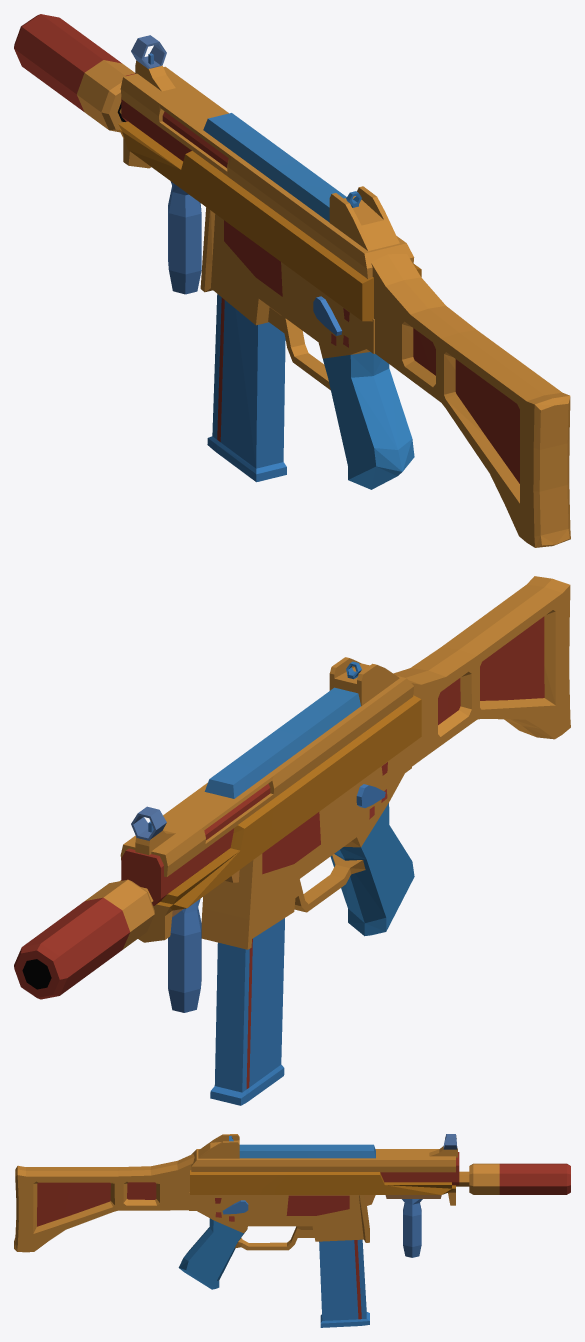
3 renders of one model, top to bottom at view 1: azimuth 30°, elevation 25°; view 2: azimuth 150°, elevation 25°; view 3: azimuth 270°, elevation 25°, orthographic. The views are drawn at different scales.
Visible parts, largest first — view 1: G36_Toy_Main_2, G36_Toy_Magazine_3; view 2: G36_Toy_Main_2, G36_Toy_Magazine_3; view 3: G36_Toy_Main_2, G36_Toy_Magazine_3.
Boxes of the visible parts, x1,y1,x2,y2 form: G36_Toy_Main_2: (14, 14, 570, 547); G36_Toy_Magazine_3: (207, 294, 286, 482); G36_Toy_Main_2: (14, 576, 570, 1012); G36_Toy_Magazine_3: (210, 918, 284, 1105); G36_Toy_Main_2: (14, 1134, 570, 1289); G36_Toy_Magazine_3: (319, 1239, 369, 1327).
Bounding box in the file's own units: 0.1415 × 0.7982 × 2.15.
2 materials, 2 textured.
